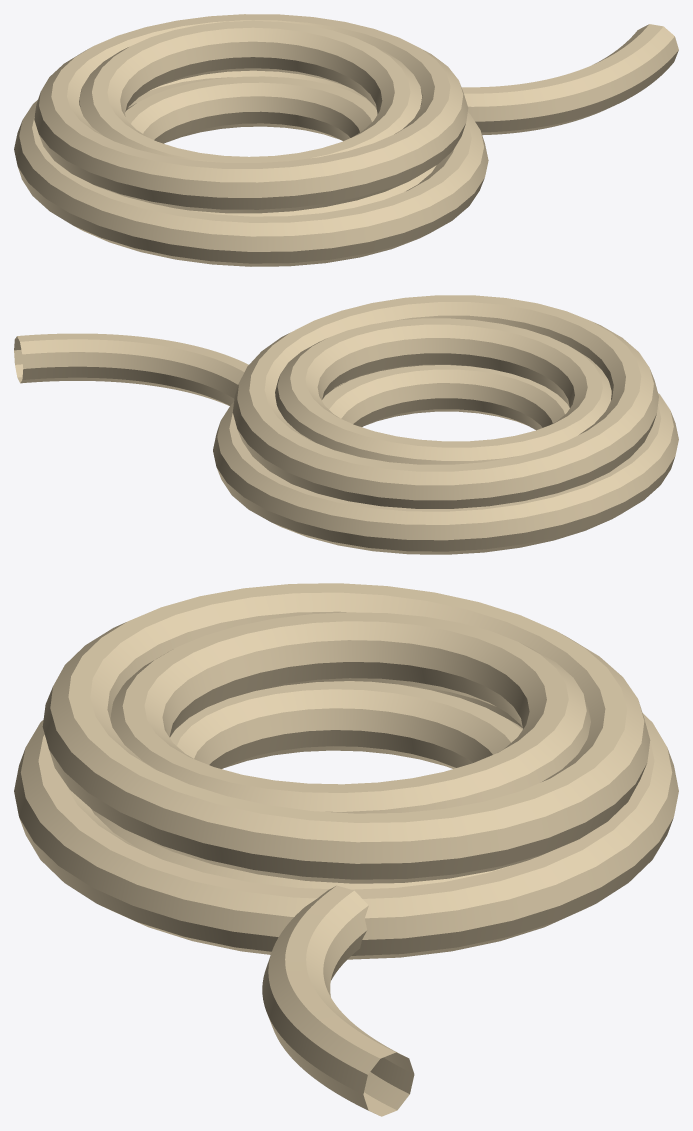
The model's file is rope_coil.glb.
The picture shows the model from 3 angles, top to bottom: view 1: azimuth 30°, elevation 25°; view 2: azimuth 150°, elevation 25°; view 3: azimuth 270°, elevation 25°; orthographic projection. The views are drawn at different scales.
Parts seen in each view (by area): view 1: Rope Coil; view 2: Rope Coil; view 3: Rope Coil.
Part boxes in pixels (x1=…): Rope Coil: x1=14, y1=14, x2=678, y2=266; Rope Coil: x1=14, y1=295, x2=678, y2=554; Rope Coil: x1=14, y1=583, x2=678, y2=1116.
Size of the model in its own units: 0.7307 by 0.1075 by 0.47.
